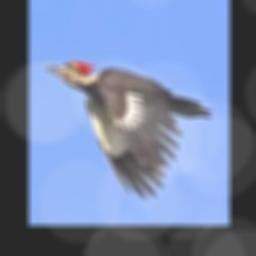Woodpecker: (44, 60, 212, 199)
